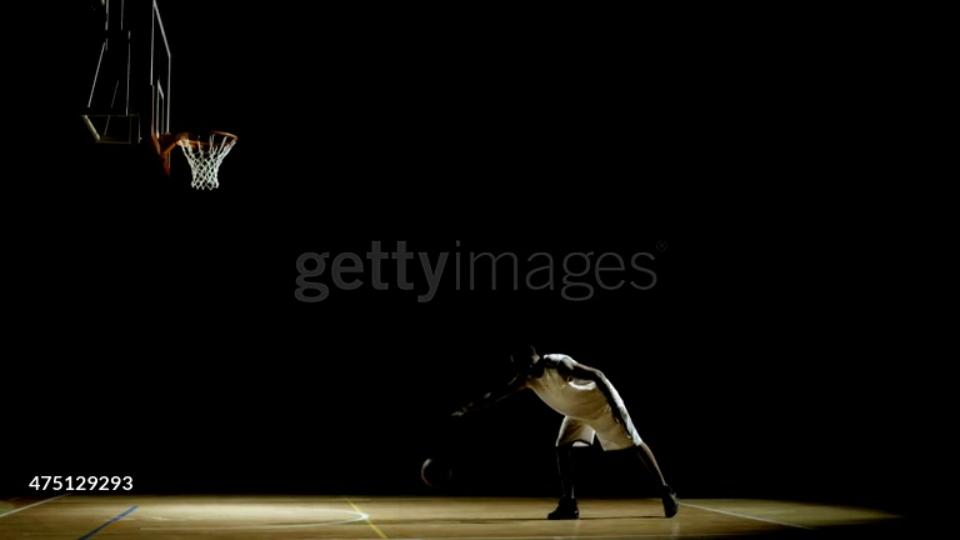hoop: (161, 125, 242, 156)
